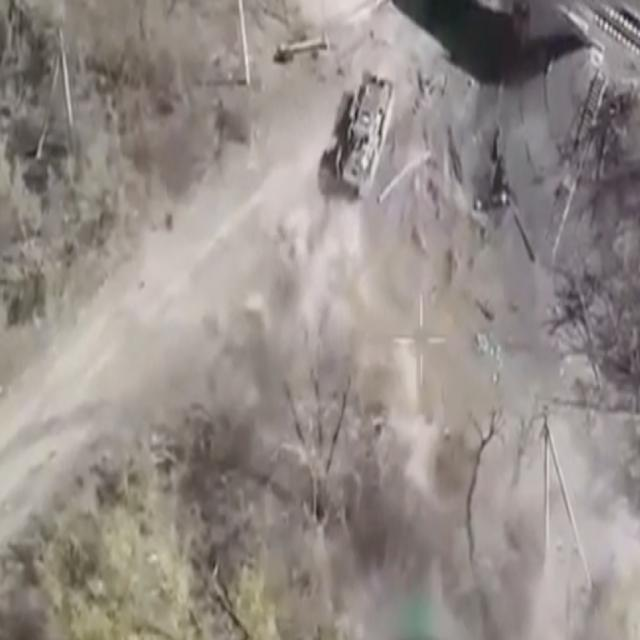vehicle: (336, 68, 393, 198)
